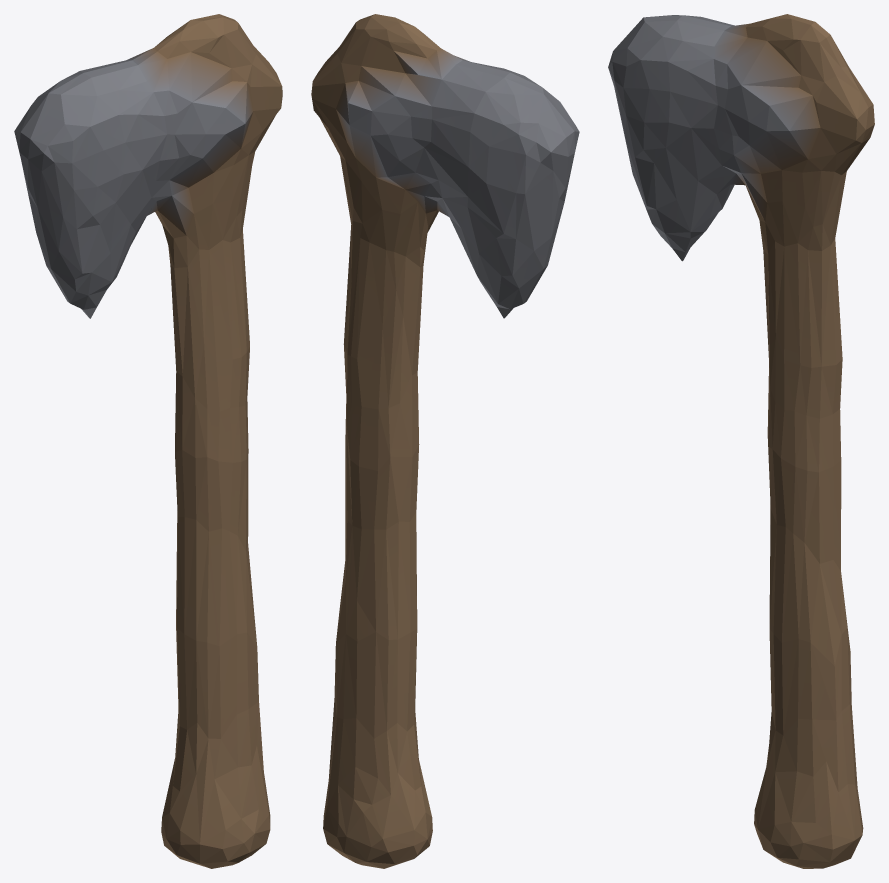
Rendered from axe_flint.glb.
3 renders of one model, left to right at view 1: azimuth 30°, elevation 25°; view 2: azimuth 150°, elevation 25°; view 3: azimuth 330°, elevation 25°, orthographic.
Parts seen in each view (by area): view 1: world; view 2: world; view 3: world.
Part boxes in pixels (bbox=[...]): world: bbox=[14, 14, 282, 868]; world: bbox=[311, 14, 579, 868]; world: bbox=[608, 14, 874, 868].
Size of the model in its own units: 0.3181 by 1 by 0.1117.
